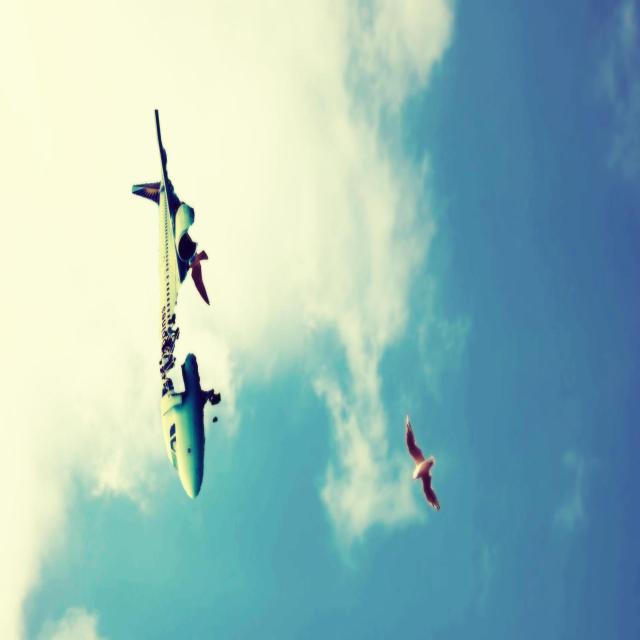airplane: (131, 108, 221, 498)
